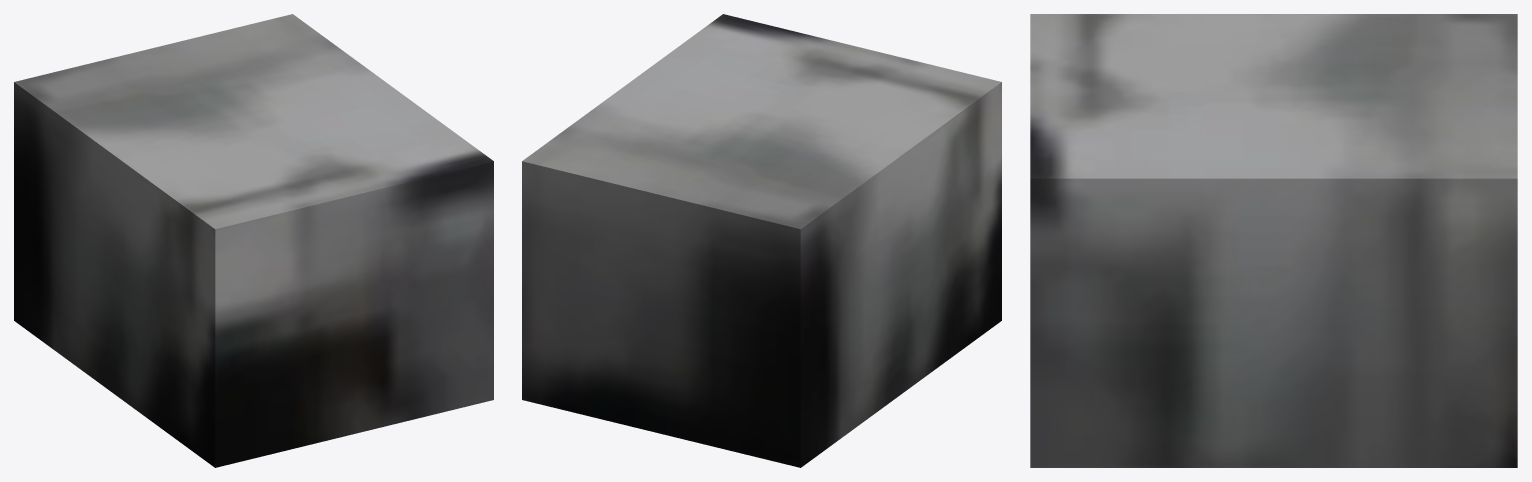
Rendered from frame__back_rail_gusset_1.glb.
The picture shows the model from 3 angles, left to right: view 1: azimuth 30°, elevation 25°; view 2: azimuth 150°, elevation 25°; view 3: azimuth 270°, elevation 25°; orthographic projection. The views are drawn at different scales.
Visible parts, largest first — view 1: world; view 2: world; view 3: world.
Part boxes in pixels (x1,y1,x2,y2): world: [14, 14, 493, 467]; world: [522, 14, 1001, 467]; world: [1030, 14, 1517, 467].
Size of the model in its own units: 0.044 by 0.036 by 0.055.
Materials: 1 (1 with a texture image).
